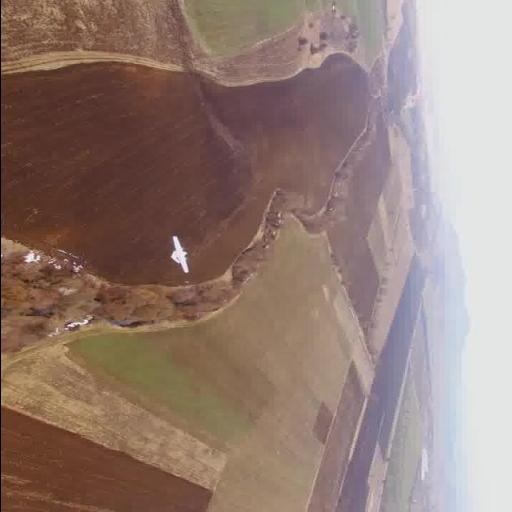uav: (154, 234, 196, 274)
